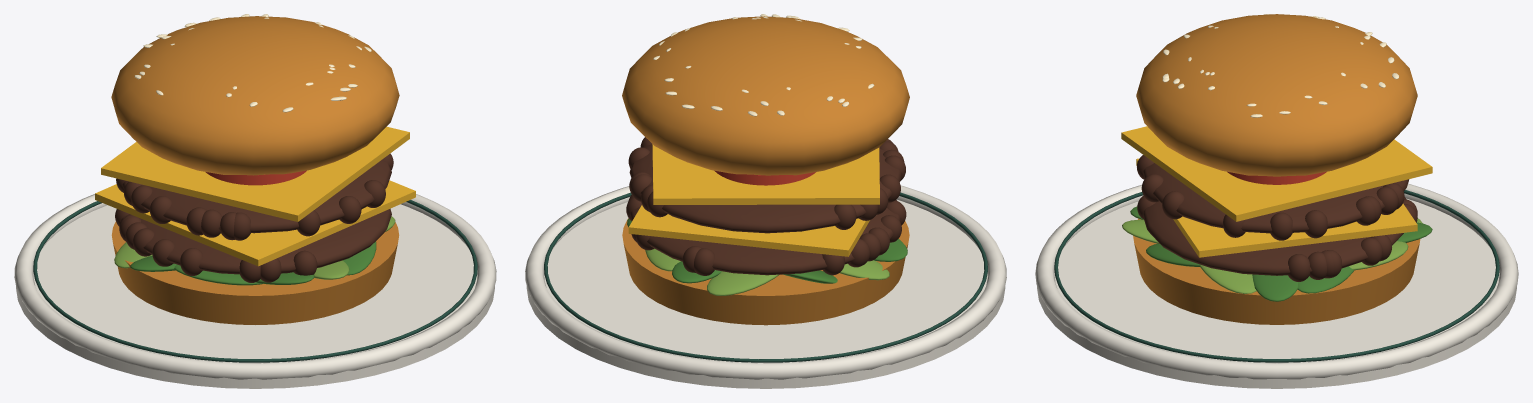
The model's file is burger-regular.glb.
The picture shows the model from 3 angles, left to right: view 1: azimuth 30°, elevation 25°; view 2: azimuth 150°, elevation 25°; view 3: azimuth 270°, elevation 25°; orthographic projection.
Visible parts, largest first — view 1: Morsel original burger regular, brioche crown, bottom bun, beef patty (×2), leaf (×6); view 2: Morsel original burger regular, brioche crown, bottom bun, beef patty (×2), leaf (×6); view 3: Morsel original burger regular, brioche crown, bottom bun, beef patty (×2), leaf (×6).
Part boxes in pixels (left/top/right/bottom): Morsel original burger regular: left=14, top=126, right=496, bottom=388; brioche crown: left=111, top=16, right=399, bottom=175; bottom bun: left=111, top=221, right=399, bottom=324; beef patty (×2): left=120, top=160, right=391, bottom=274; leaf (×6): left=114, top=241, right=376, bottom=285; Morsel original burger regular: left=525, top=137, right=1006, bottom=388; brioche crown: left=622, top=16, right=909, bottom=175; bottom bun: left=622, top=218, right=909, bottom=325; beef patty (×2): left=629, top=144, right=902, bottom=275; leaf (×6): left=645, top=239, right=907, bottom=295; Morsel original burger regular: left=1035, top=126, right=1518, bottom=388; brioche crown: left=1136, top=14, right=1417, bottom=176; bottom bun: left=1133, top=218, right=1420, bottom=324; beef patty (×2): left=1142, top=163, right=1409, bottom=275; leaf (×6): left=1122, top=219, right=1408, bottom=301.
Size of the model in its own units: 3.02 by 1.69 by 3.02.
